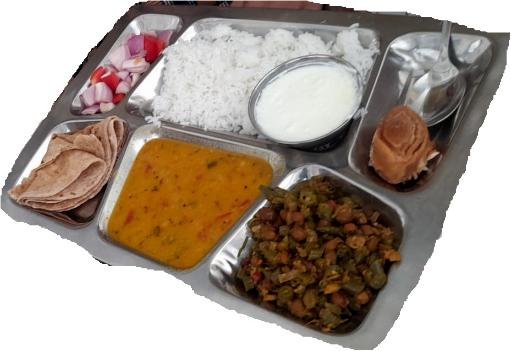Curd: (251, 59, 362, 146)
Dal: (94, 131, 280, 275)
Rice: (131, 20, 380, 149)
Roti: (7, 118, 135, 216)
Salad: (68, 20, 183, 112)
Sweet: (368, 103, 437, 191)
Vegetable: (225, 172, 405, 341)
